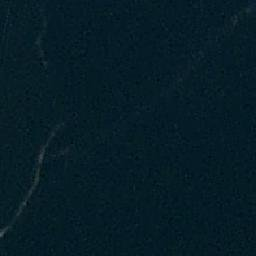debris: (40, 122, 58, 162), (16, 191, 29, 218), (30, 165, 42, 191), (1, 212, 12, 238)
